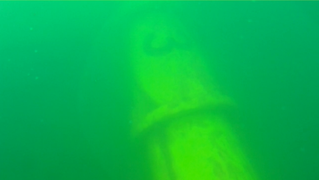3: (142, 30, 190, 58)
pipe: (114, 1, 259, 179)
